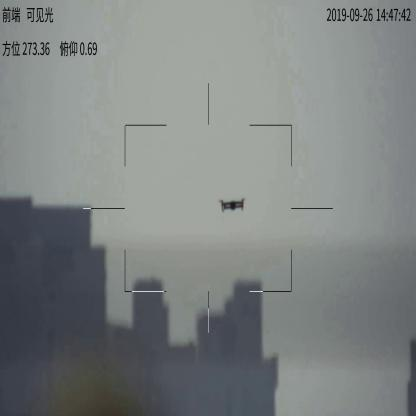uav: (216, 196, 250, 215)
